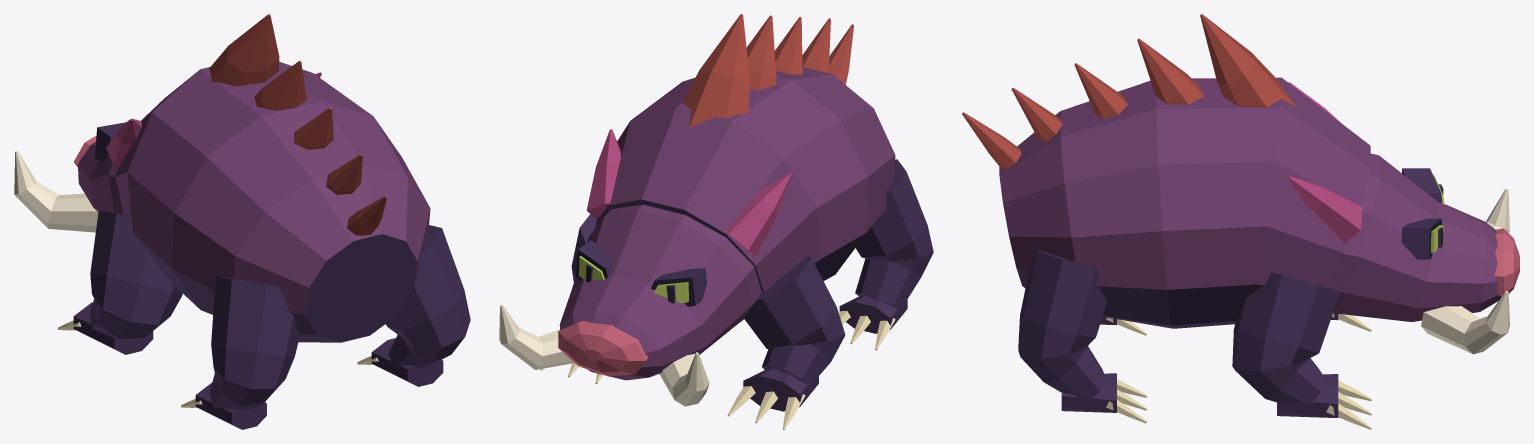
The model's file is CaveCharger_D3-05.fbx.
The picture shows the model from 3 angles, left to right: view 1: azimuth 30°, elevation 25°; view 2: azimuth 150°, elevation 25°; view 3: azimuth 270°, elevation 25°; orthographic projection. The views are drawn at different scales.
Visible parts, largest first — view 1: Body, Leg_BL, Leg_FL, Leg_BR, Head; view 2: Body, Head, Leg_FL, Leg_BL, Leg_FR; view 3: Body, Head, Leg_FR, Leg_BR.
Part boxes in pixels (x1,y1,x2,y2): Body: (115,14,430,342); Leg_BL: (181,275,299,429); Leg_FL: (57,210,182,354); Leg_BR: (357,225,470,386); Head: (14,72,321,232); Body: (595,14,895,292); Head: (499,129,791,406); Leg_FL: (728,255,845,429); Leg_BL: (839,159,933,350); Leg_FR: (540,214,602,383); Body: (962,14,1370,328); Head: (1287,82,1519,354); Leg_FR: (1232,272,1371,429); Leg_BR: (1018,249,1147,423).
Bounding box in the file's own units: 0.9185 × 1.1 × 1.58.
1 material, 1 textured.
